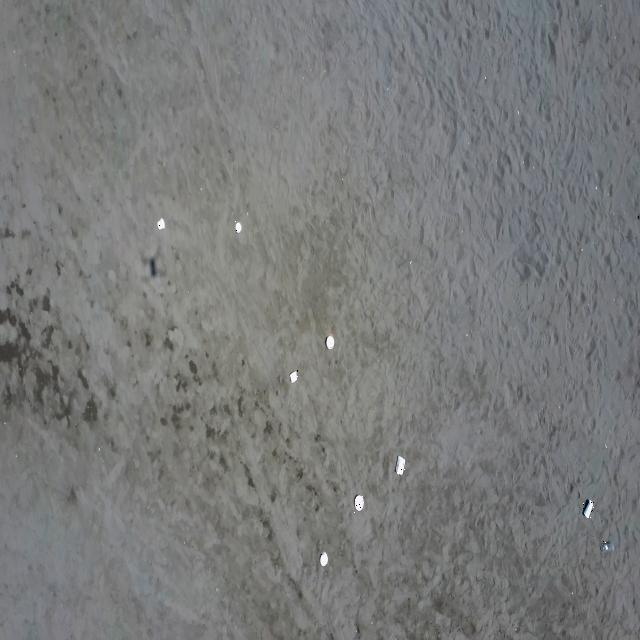take-away-containers: (395, 455, 406, 476), (354, 494, 364, 513), (326, 335, 335, 351), (289, 369, 298, 384), (156, 217, 166, 230), (320, 553, 328, 566), (235, 220, 241, 235)
takeaway-cup: (583, 500, 594, 519), (602, 541, 614, 553)
